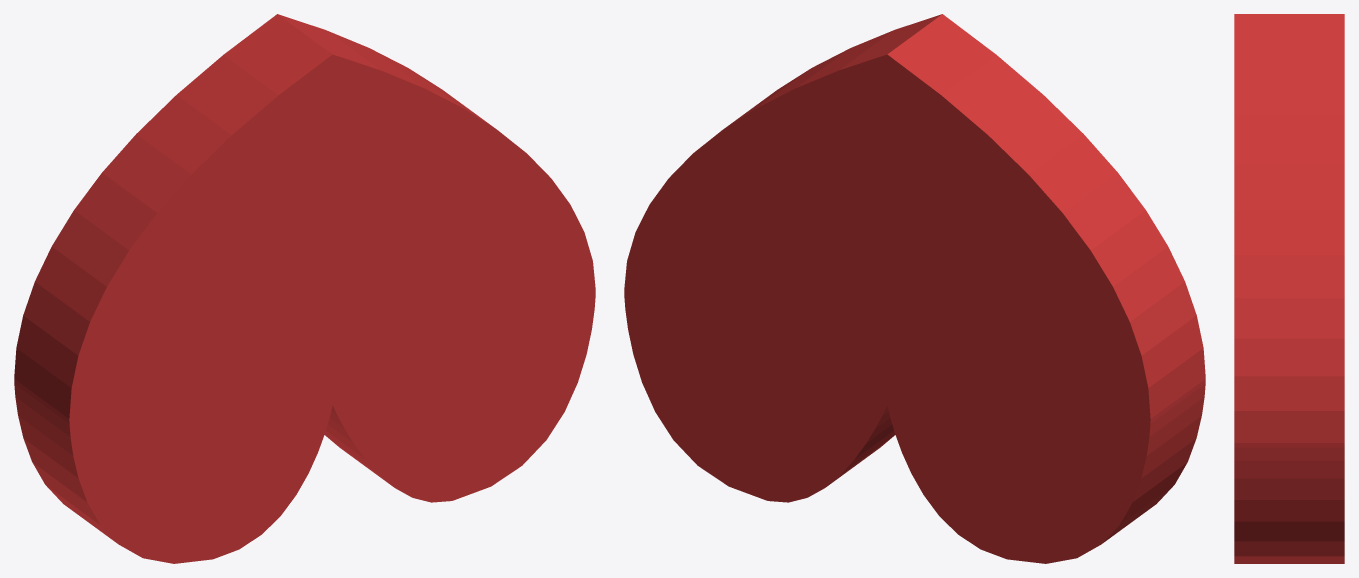
3 views of the same model, side by side, from view 1: azimuth 30°, elevation 25°; view 2: azimuth 150°, elevation 25°; view 3: azimuth 270°, elevation 25° (orthographic).
Bounding box in the file's own units: 22 × 19 × 4.
